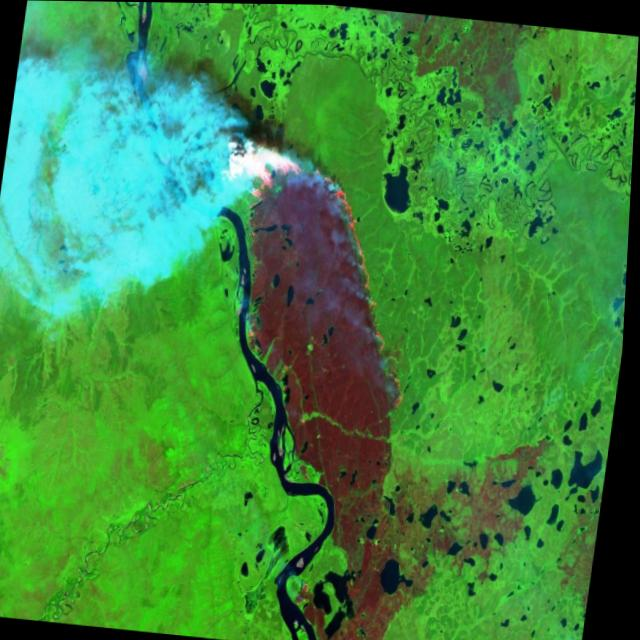fire: (192, 125, 443, 422)
